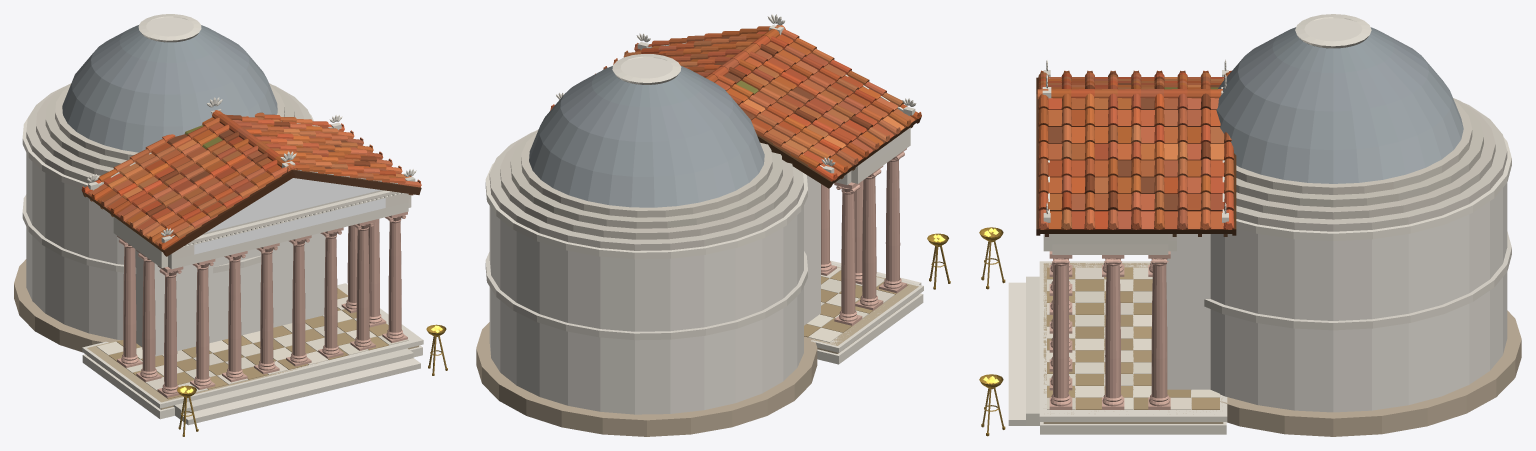
Rendered from mon_pantheon.glb.
3 renders of one model, left to right at view 1: azimuth 30°, elevation 25°; view 2: azimuth 150°, elevation 25°; view 3: azimuth 270°, elevation 25°, orthographic. The views are drawn at different scales.
Visible parts, largest first — view 1: House; view 2: House; view 3: House.
Boxes of the visible parts, x1,y1,x2,y2 form: House: (14, 14, 447, 436); House: (476, 14, 950, 436); House: (979, 14, 1521, 436).
Bounding box in the file's own units: 6.5 × 6.26 × 9.36.
7 materials, 7 textured.
